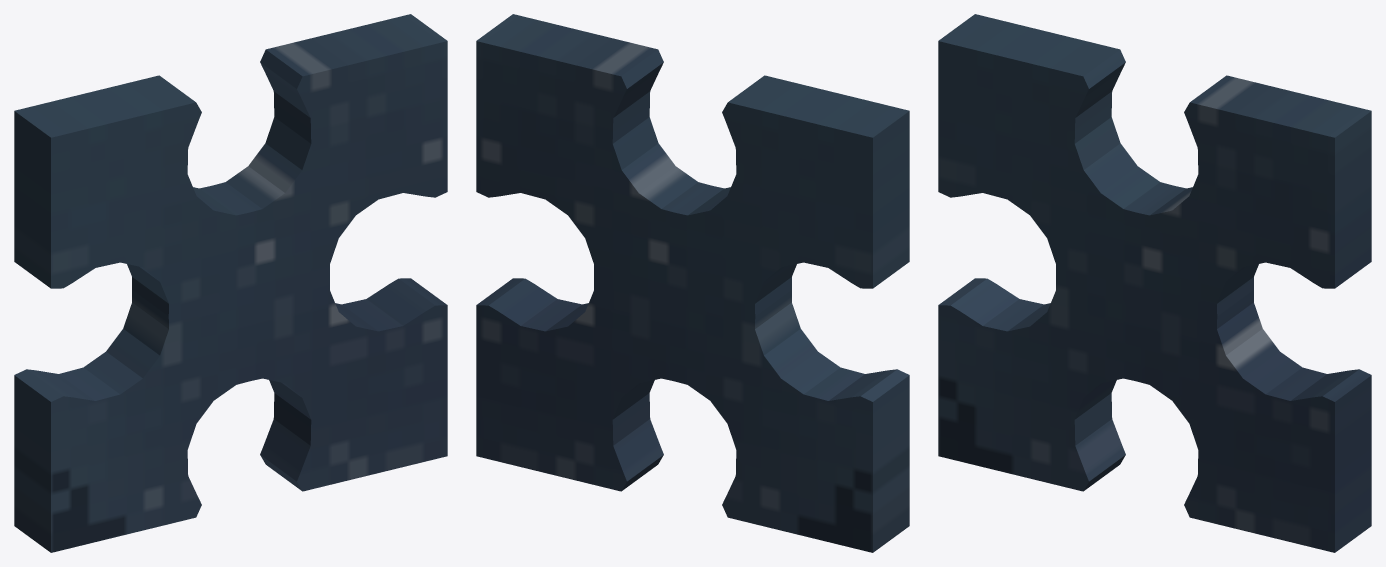
File: Pieces_6_006.fbx
3 views of the same model, side by side, from view 1: azimuth 30°, elevation 25°; view 2: azimuth 150°, elevation 25°; view 3: azimuth 330°, elevation 25° (orthographic).
Parts seen in each view (by area): view 1: Pieces 6.006; view 2: Pieces 6.006; view 3: Pieces 6.006.
Boxes of the visible parts, left/top/right/bottom form: Pieces 6.006: left=14, top=14, right=447, bottom=552; Pieces 6.006: left=476, top=14, right=909, bottom=552; Pieces 6.006: left=938, top=14, right=1371, bottom=552.
Size of the model in its own units: 80.52 by 80.52 by 12.98.
